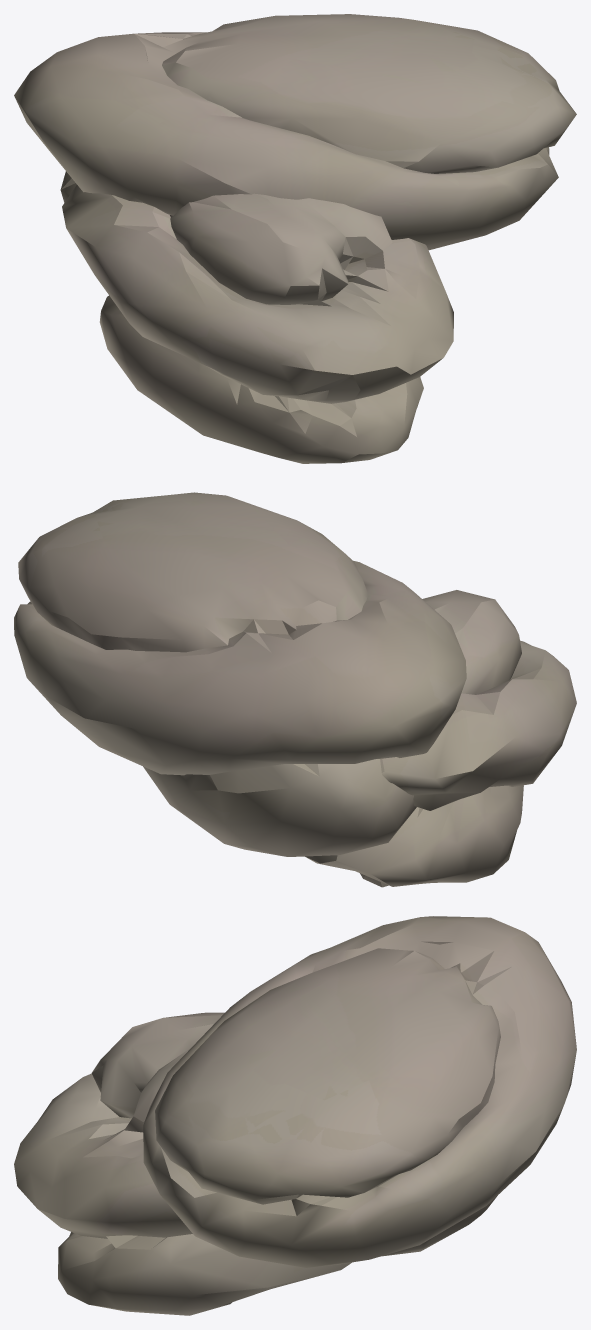
File: Rock.fbx
3 renders of one model, top to bottom at view 1: azimuth 30°, elevation 25°; view 2: azimuth 150°, elevation 25°; view 3: azimuth 270°, elevation 25°, orthographic. The views are drawn at different scales.
Visible parts, largest first — view 1: Cube; view 2: Cube; view 3: Cube.
Boxes of the visible parts, x1,y1,x2,y2 form: Cube: (14, 14, 576, 463); Cube: (14, 492, 576, 887); Cube: (14, 916, 576, 1315).
Bounding box in the file's own units: 84.47 × 58.61 × 84.54.
